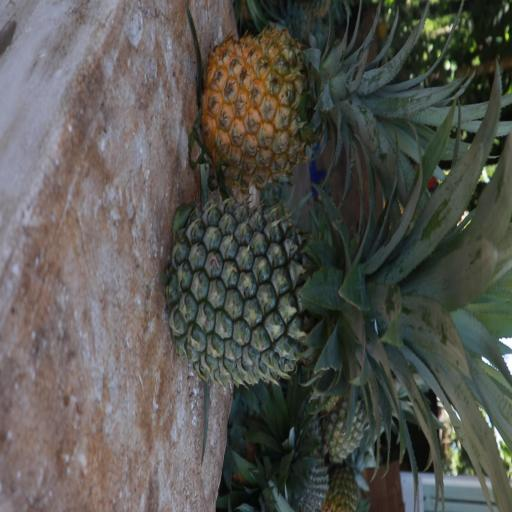Pineapple - v8 v1: (205, 20, 456, 182)
